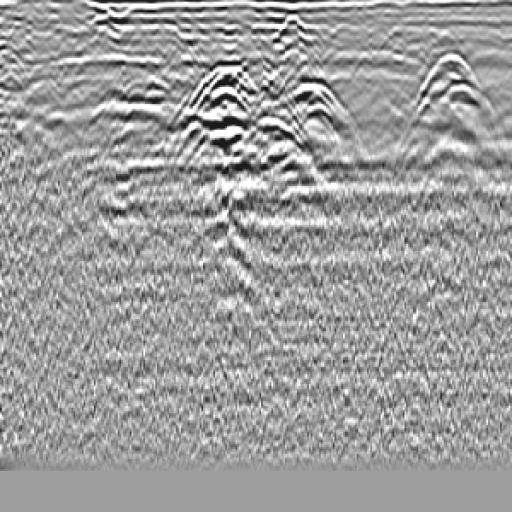metalic: (241, 29, 391, 297)
nonmetalic: (398, 30, 512, 195), (146, 43, 263, 172)
